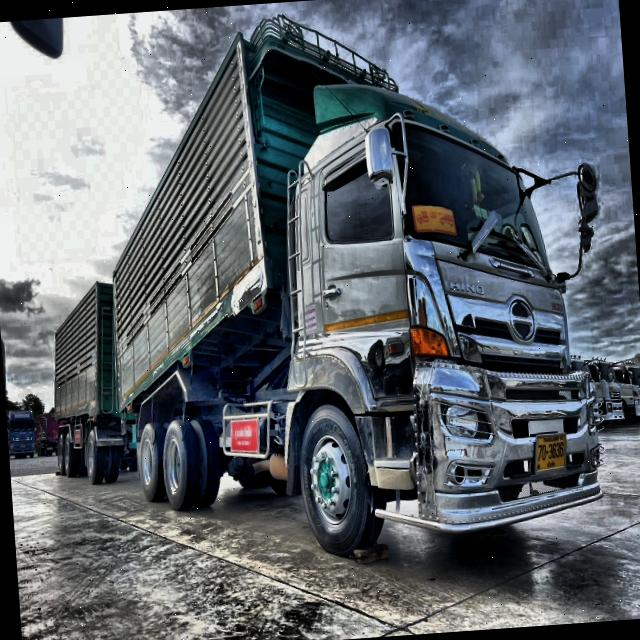trailer: (19, 0, 615, 626)
